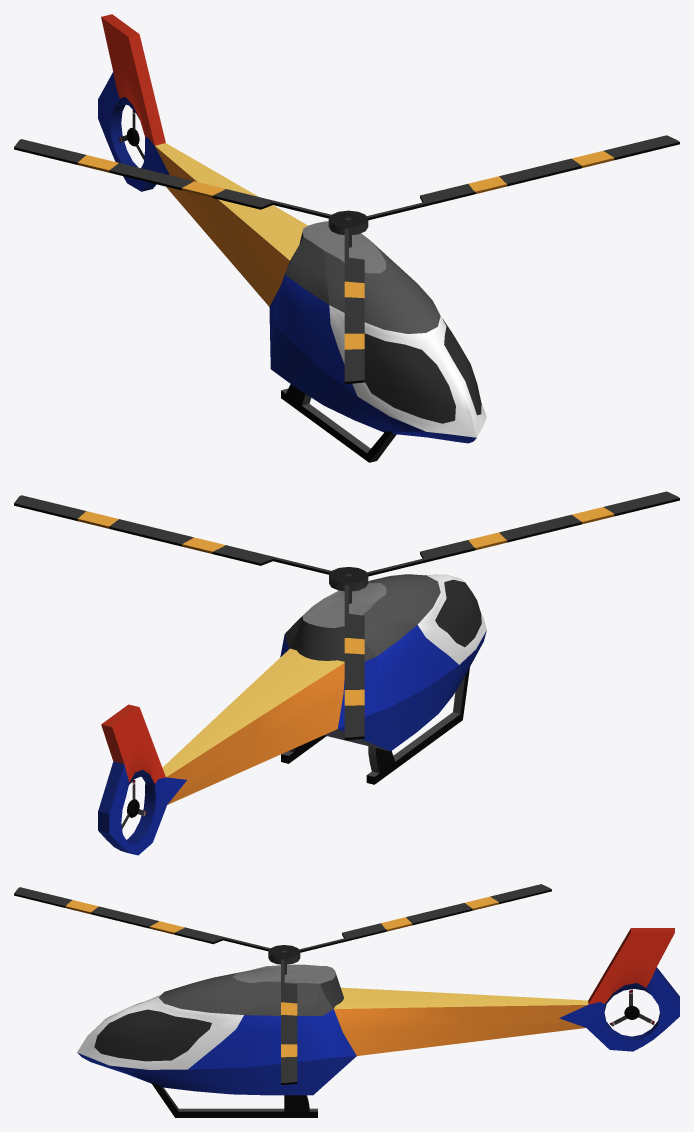
The model's file is Heli_3.fbx.
3 views of the same model, one above another, from view 1: azimuth 30°, elevation 25°; view 2: azimuth 150°, elevation 25°; view 3: azimuth 270°, elevation 25° (orthographic). The views are drawn at different scales.
Visible parts, largest first — view 1: Body, Rotor; view 2: Body, Rotor; view 3: Body, Rotor.
Boxes of the visible parts, x1,y1,x2,y2 form: Body: (98, 14, 486, 462); Rotor: (14, 135, 679, 383); Body: (98, 574, 486, 855); Rotor: (14, 491, 679, 739); Body: (77, 928, 679, 1117); Rotor: (14, 884, 551, 1084).
Bounding box in the file's own units: 8.23 × 3.26 × 11.64.
